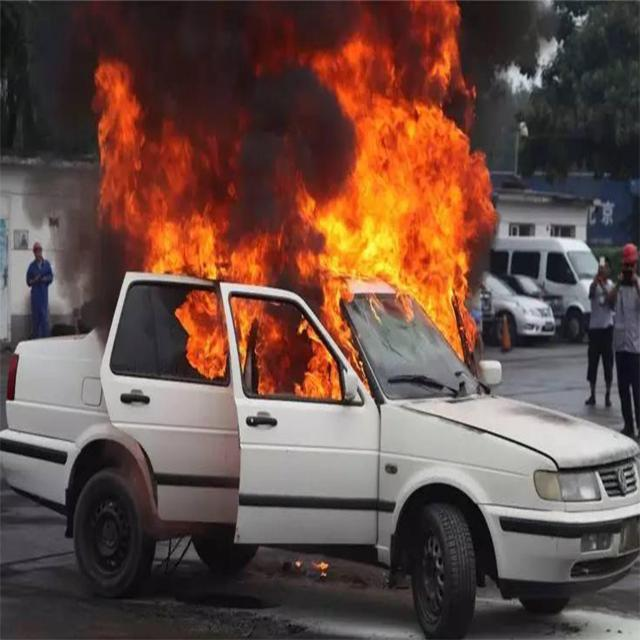fire: (94, 1, 497, 279), (233, 280, 482, 402), (460, 6, 556, 95)
